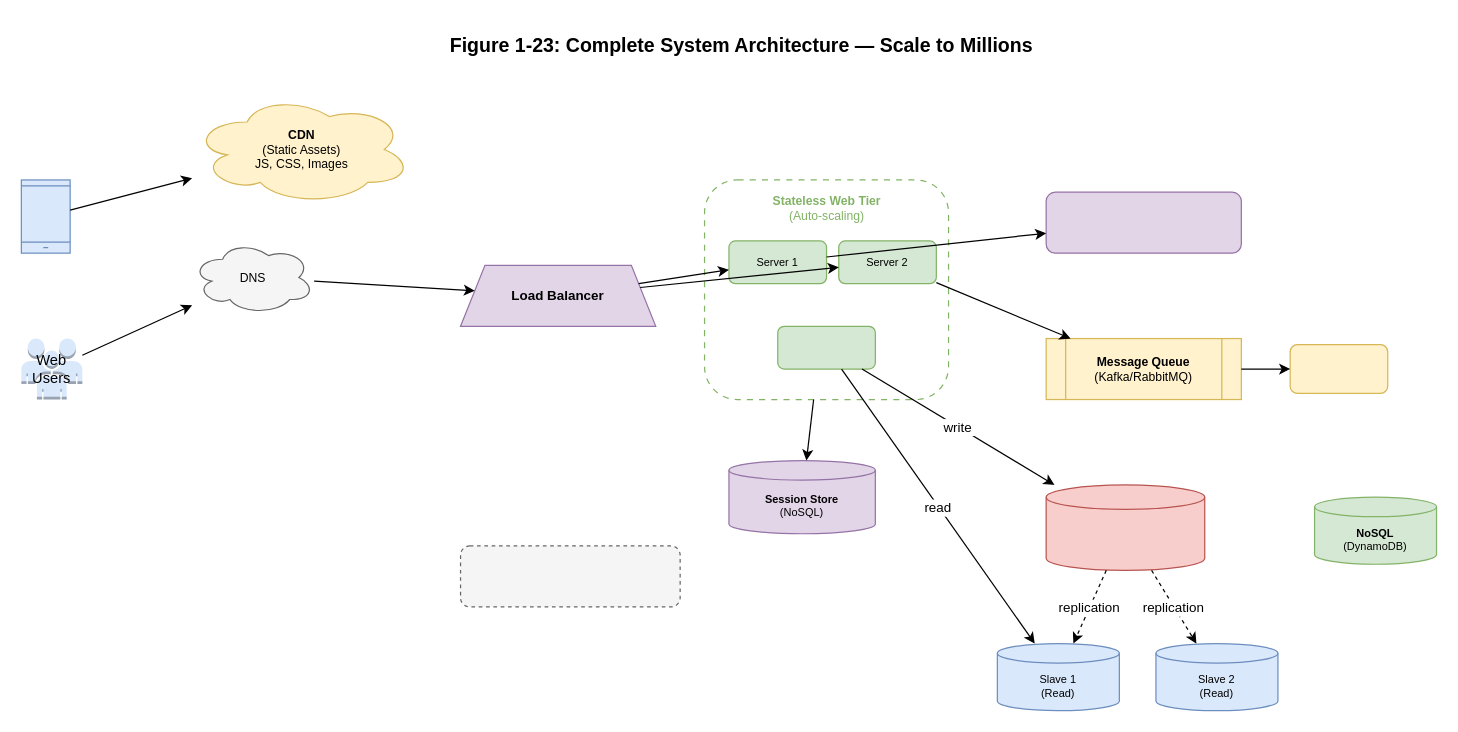
The diagram is 1458 pixels wide and 732 high, and some of its shapes have lost their labels. The shapes that lost their labels are listed below. From the top down, each one's centre as x and y in pixels, then its label:
[45,216]: Mobile Users
[1143,222]: Cache Cluster (Redis/Memcached)
[826,347]: Server N
[1338,368]: Workers
[1125,527]: Master DB (Writes)
[569,576]: Logging & Monitoring Metrics, Automation
